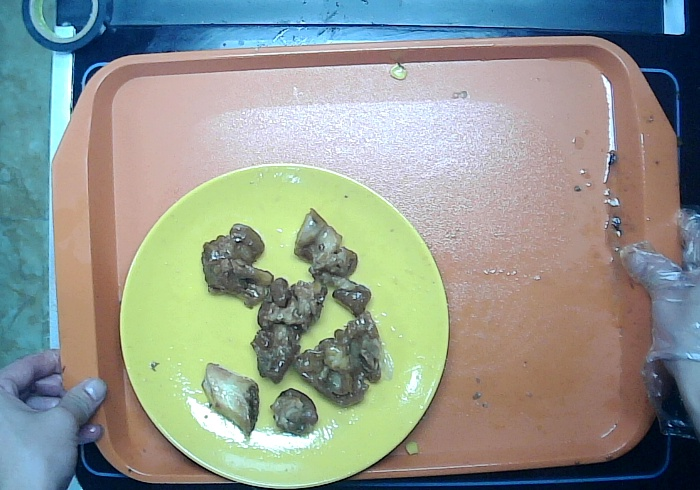HZYJPL-Huang_Se_Yuan_Pan: (118, 161, 453, 490)
